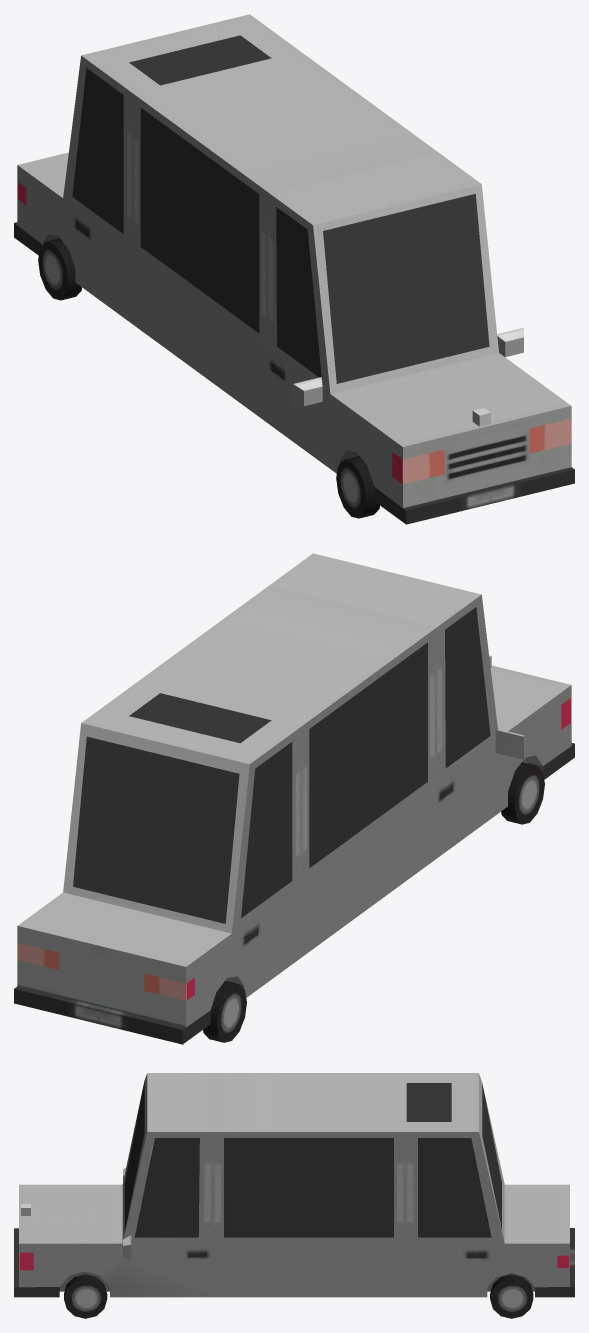
The model's file is limo_white.fbx.
The picture shows the model from 3 angles, top to bottom: view 1: azimuth 30°, elevation 25°; view 2: azimuth 150°, elevation 25°; view 3: azimuth 270°, elevation 25°; orthographic projection. The views are drawn at different scales.
Visible parts, largest first — view 1: limo_white; view 2: limo_white; view 3: limo_white.
Boxes of the visible parts, left/top/right/bottom form: limo_white: left=14, top=14, right=574, bottom=524; limo_white: left=14, top=553, right=574, bottom=1044; limo_white: left=14, top=1073, right=574, bottom=1318.
Bounding box in the file's own units: 3.34 × 3.58 × 9.85.
